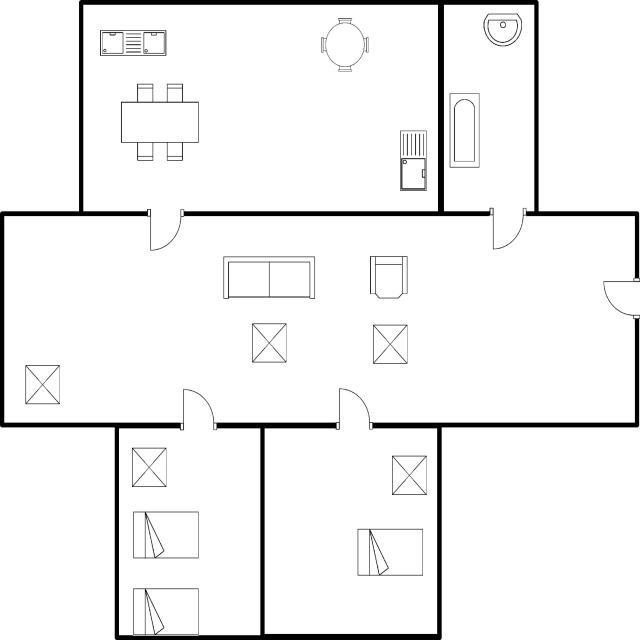armchair: (363, 251, 411, 303)
bed: (351, 524, 427, 581), (128, 581, 202, 638), (130, 508, 204, 563)
coffee_table: (368, 319, 414, 369), (384, 451, 430, 499), (246, 320, 291, 367), (20, 362, 64, 410), (127, 443, 171, 491)
dining_table: (116, 80, 202, 165)
large_sofa: (218, 250, 321, 304)
round_table: (315, 13, 373, 76)
sink: (396, 127, 430, 196)
small_sink: (476, 10, 526, 50)
tub: (445, 88, 485, 174)
twin_sink: (96, 26, 170, 61)
